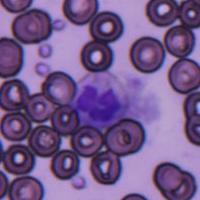N: (68, 71, 132, 130)
